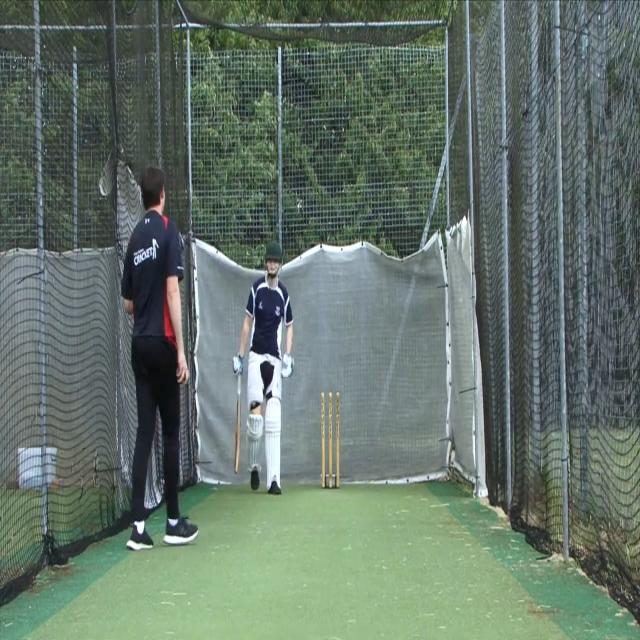batsman: (232, 238, 296, 497)
